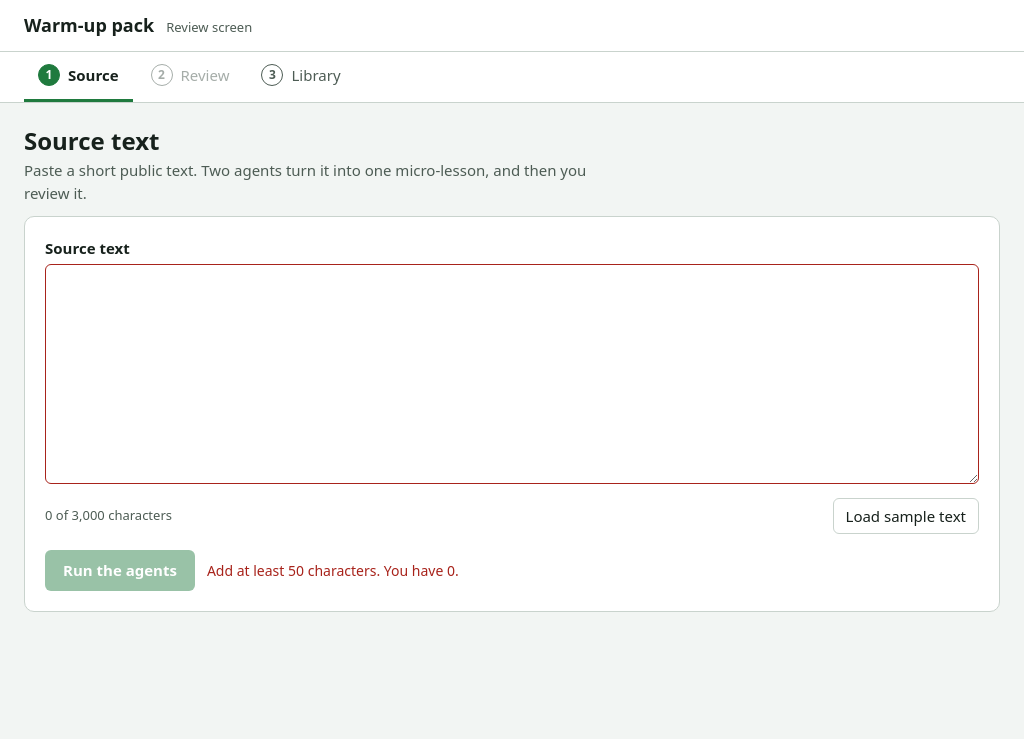
Test case: Review screen app › loads the sample, runs the agents and shows the lesson beside the highlighted quote (FR-6)
Click the button "Load sample text": coordinates (906, 516) [832,498,979,534]
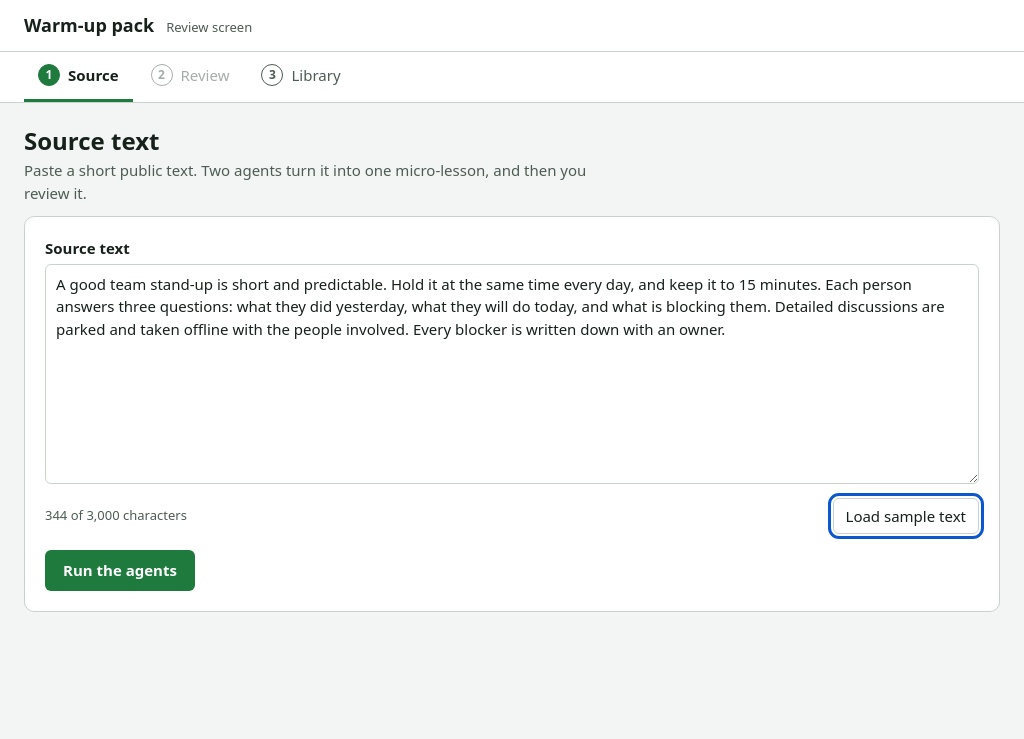
Click the button "Run the agents": coordinates (120, 571) [45,550,195,591]
(page scrolled)
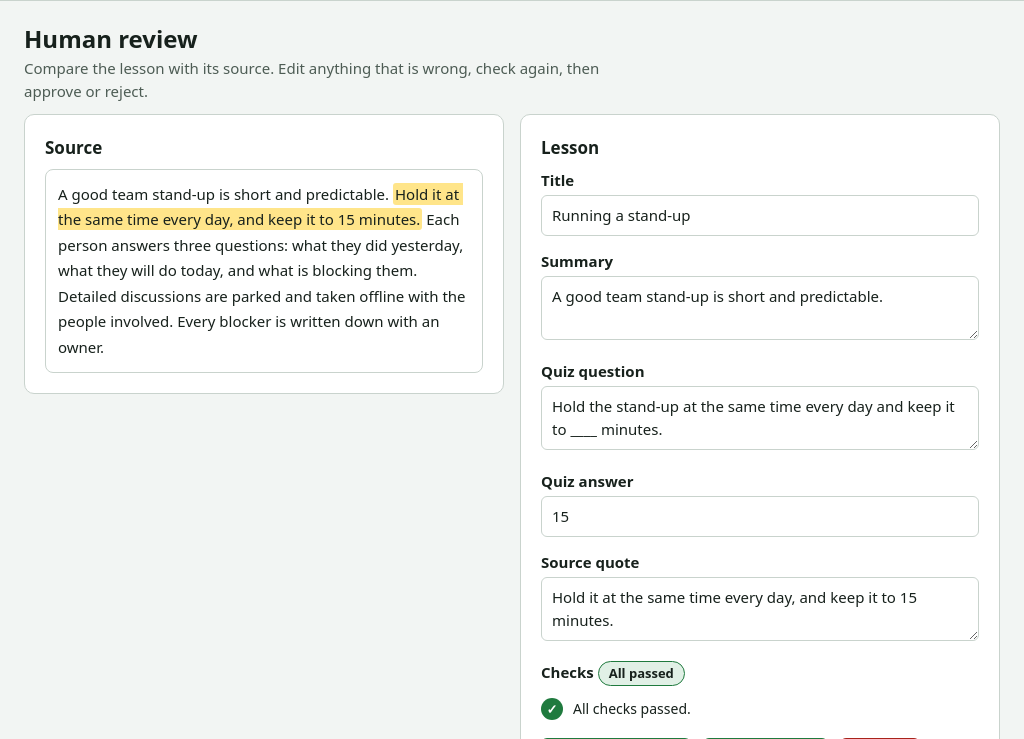
expect the heading "Human review" is shown: met, box [24,22,198,54]
expect the text "Hold it at the same time every day, and keep it to 15 minutes." is shown: met, box [58,183,463,230]
expect the element named "Source" shows "A good team stand-up is short and predictable": met, box [58,184,393,204]
